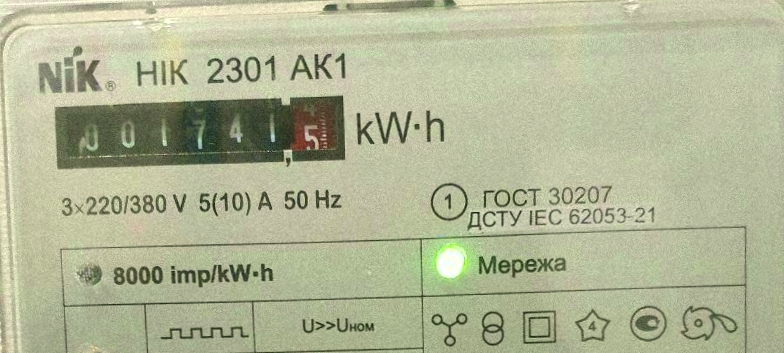0: (82, 120, 102, 153), (118, 116, 137, 150)
1: (154, 113, 171, 150), (264, 110, 279, 145)
4: (226, 110, 246, 145), (302, 100, 318, 119)
5: (301, 120, 321, 152)
7: (190, 116, 207, 151)
screen: (48, 89, 353, 176)
